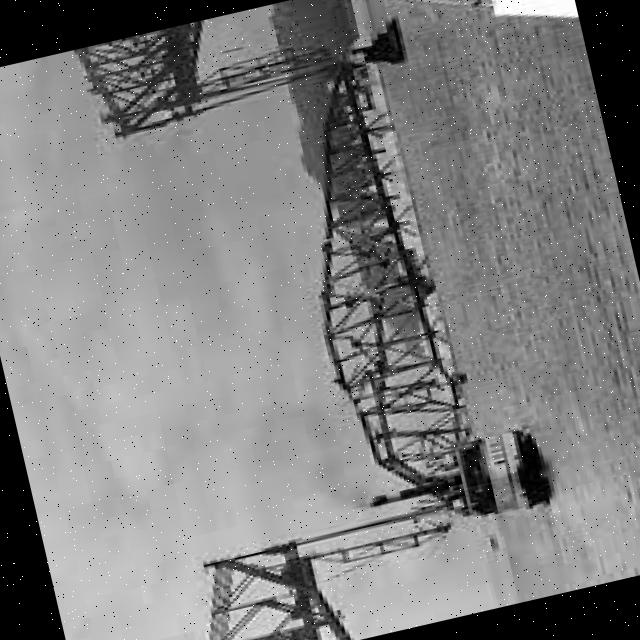bridge collapse: (23, 1, 599, 636)
